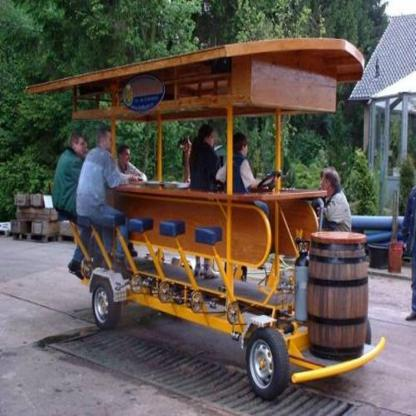face: (105, 133, 115, 151), (321, 179, 331, 195), (77, 139, 87, 155), (122, 150, 131, 165), (208, 134, 216, 148), (243, 140, 249, 158)
